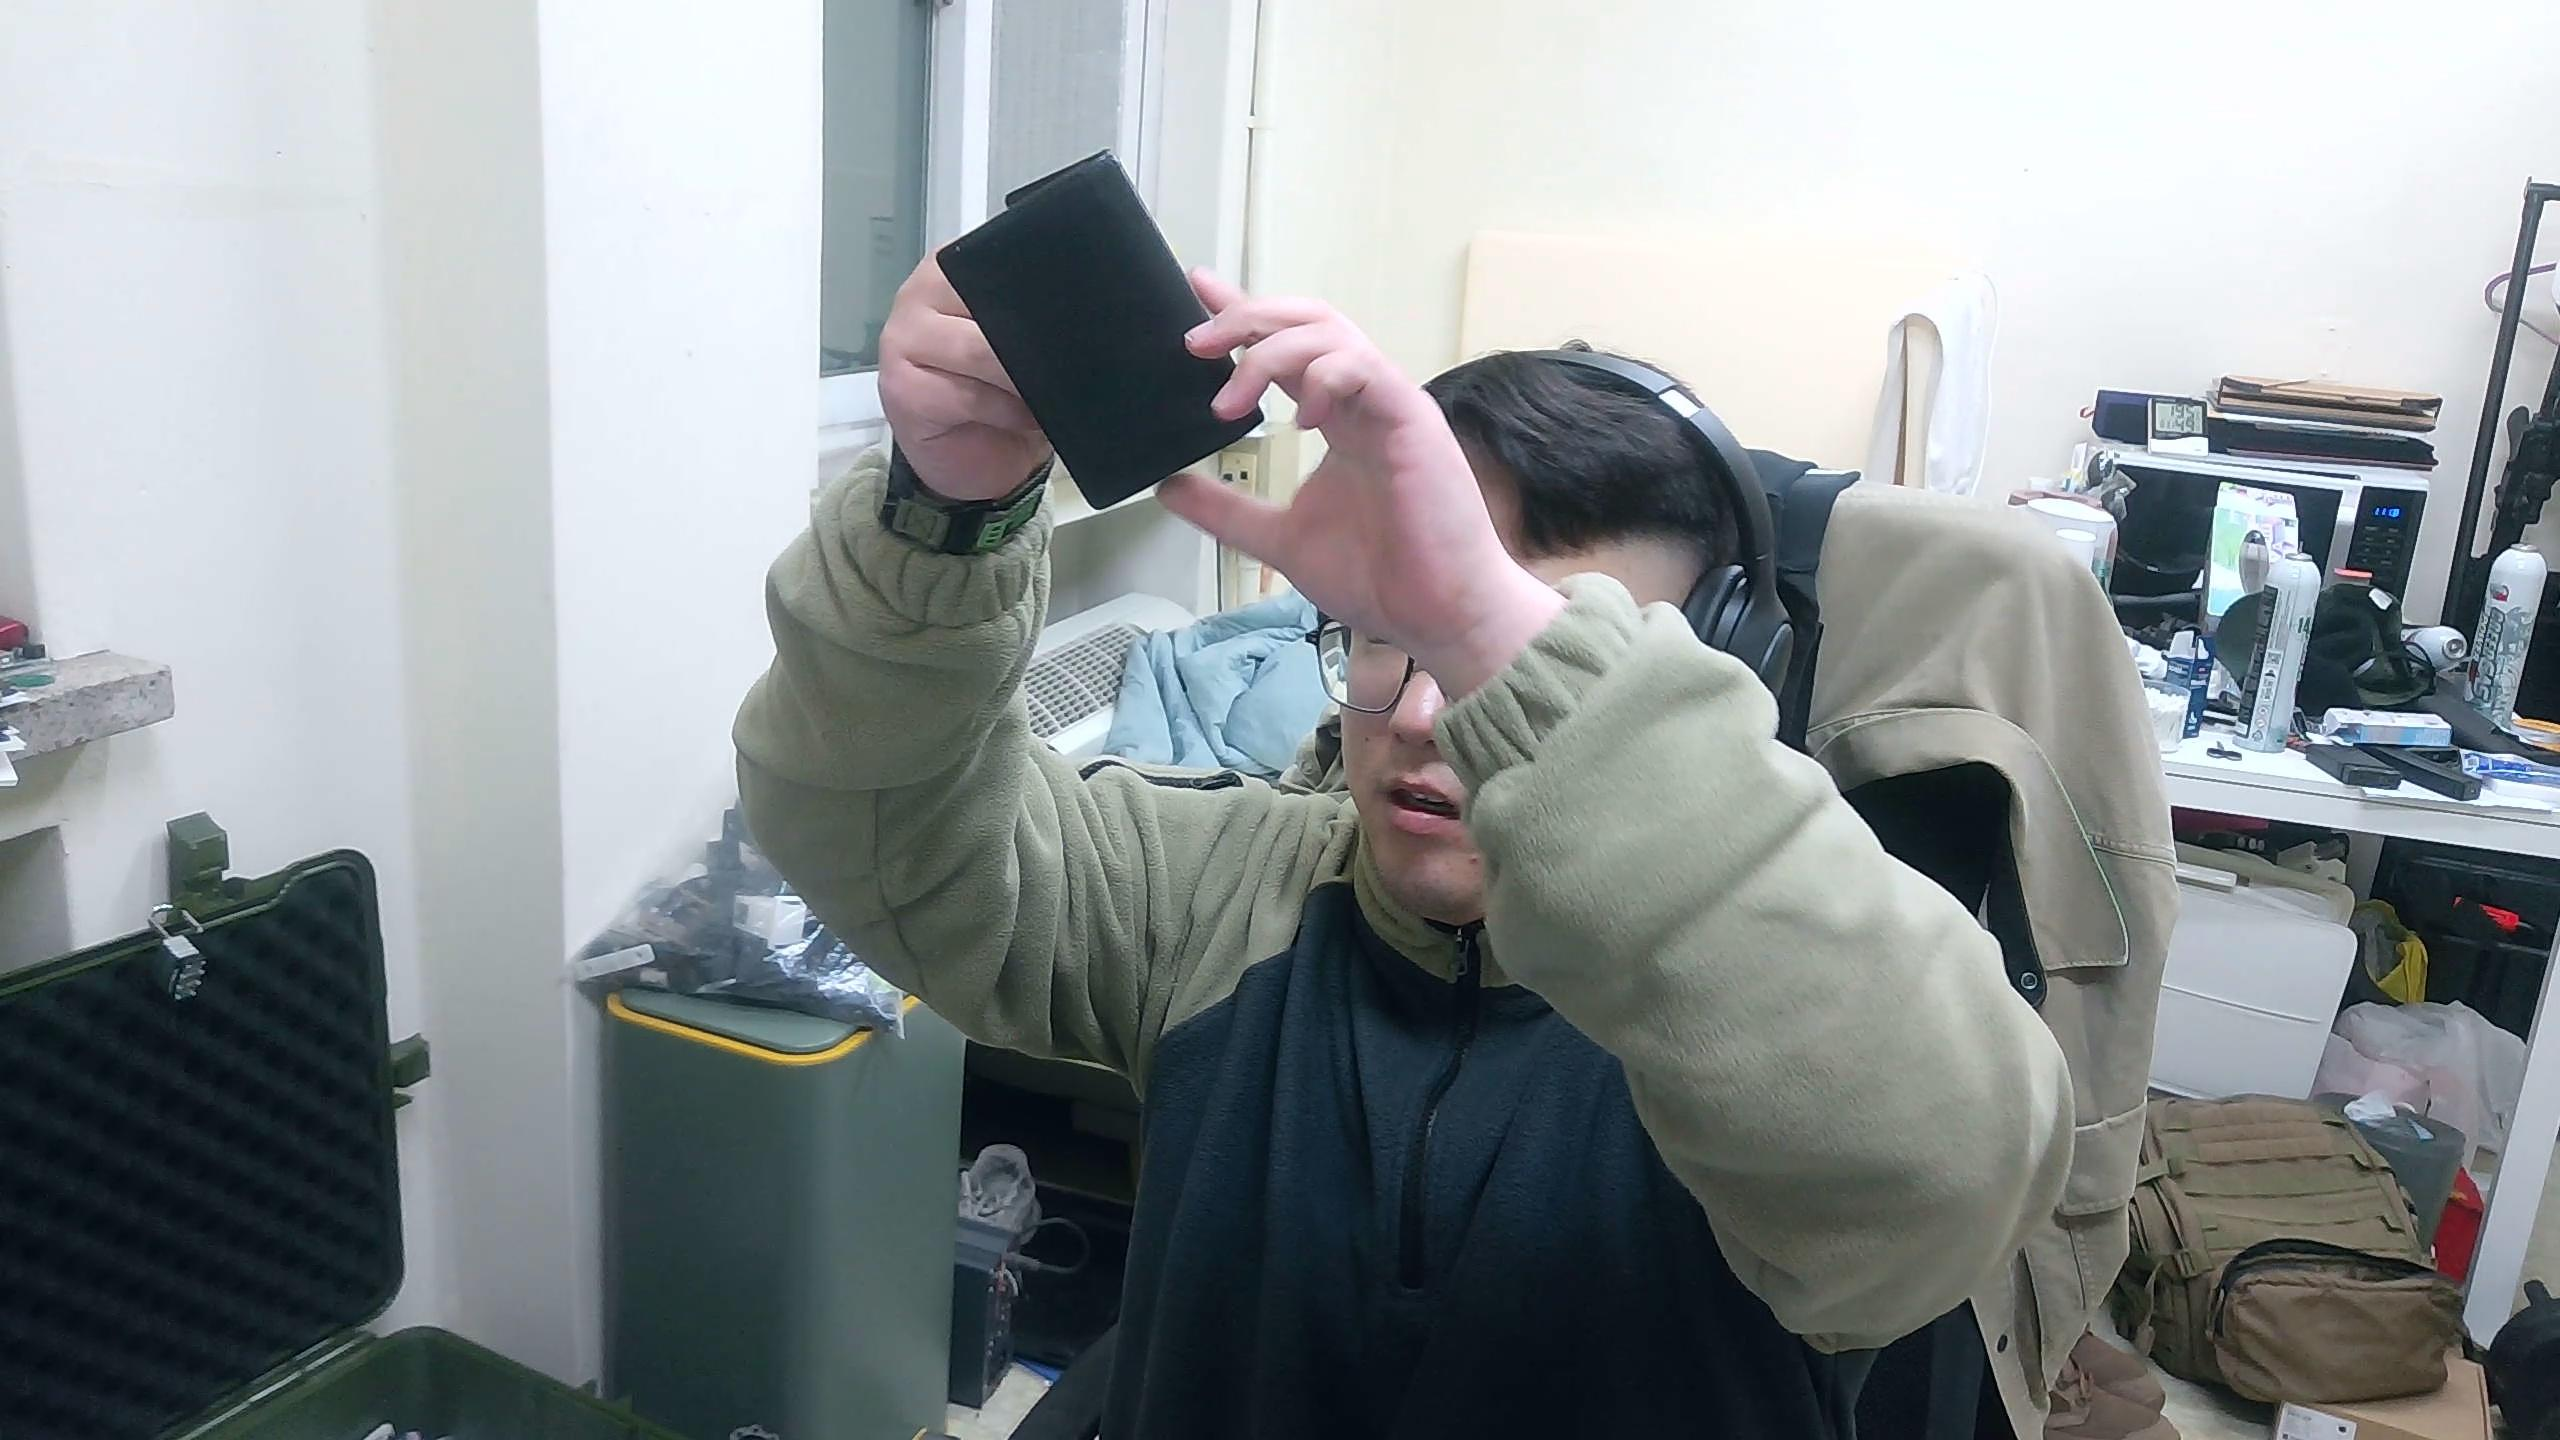Wallet: (935, 146, 1271, 515)
